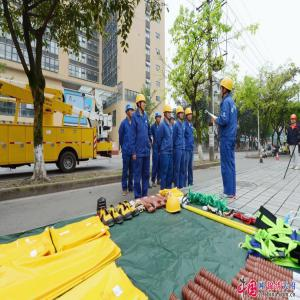blue: (126, 105, 135, 119), (156, 112, 162, 125), (170, 115, 176, 127)
red: (291, 114, 298, 125)
yellow: (220, 77, 234, 99), (136, 94, 147, 112), (164, 104, 172, 121), (176, 107, 185, 121), (185, 108, 193, 123)
